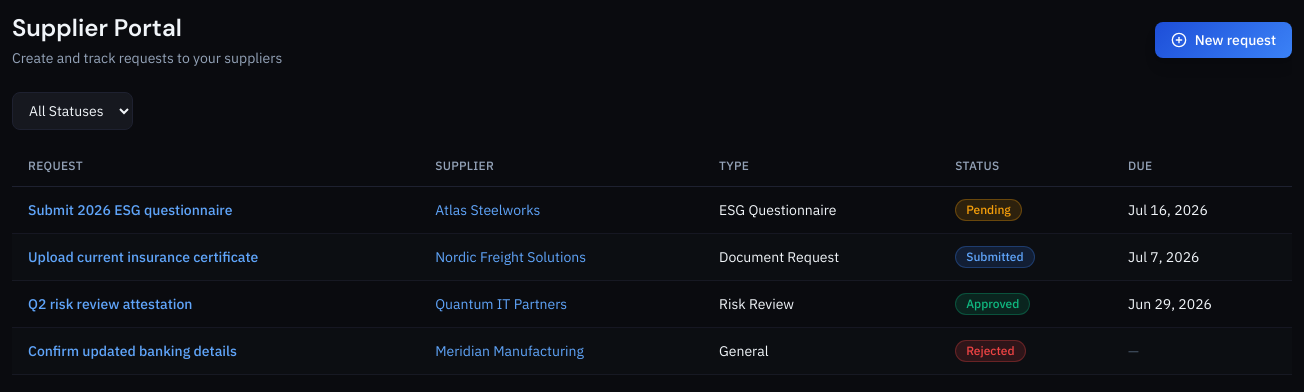
Test: Portal page › filters by status
Expected: the button "Submit 2026 ESG questionnaire" is shown, [28, 200, 232, 220]
Select "approved" in the dropdown named "Status" at x=72, y=111, box [12, 92, 133, 130]
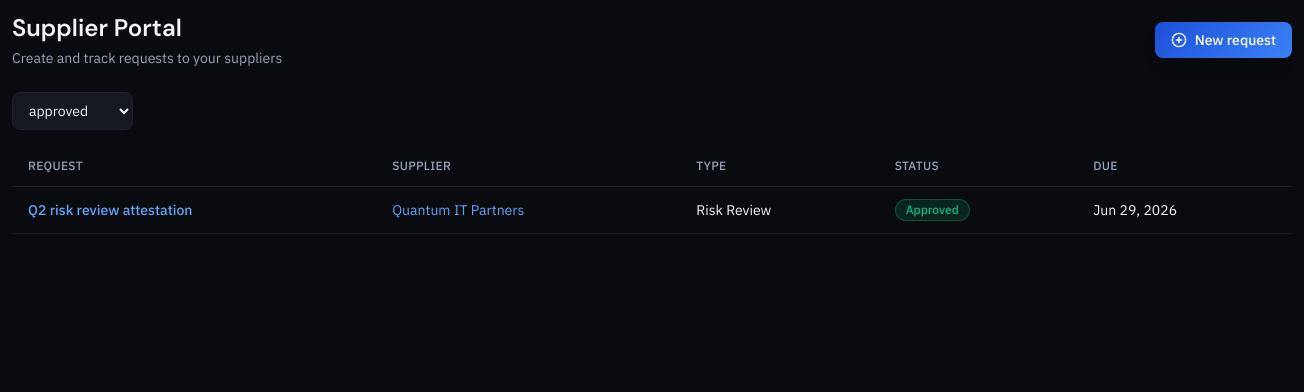
Now the button "Submit 2026 ESG questionnaire" is gone
